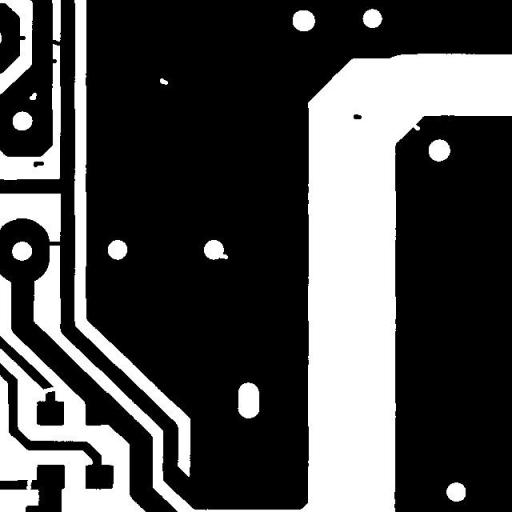copper: (26, 154, 51, 174), (346, 106, 368, 126)
mousebite: (404, 114, 427, 138), (209, 245, 235, 266)
open: (36, 378, 66, 400), (18, 468, 40, 497)
pin-hole: (152, 70, 175, 92), (22, 85, 44, 107)
short: (36, 234, 70, 252), (42, 32, 70, 53)
spur: (7, 28, 33, 48), (41, 52, 64, 70)
